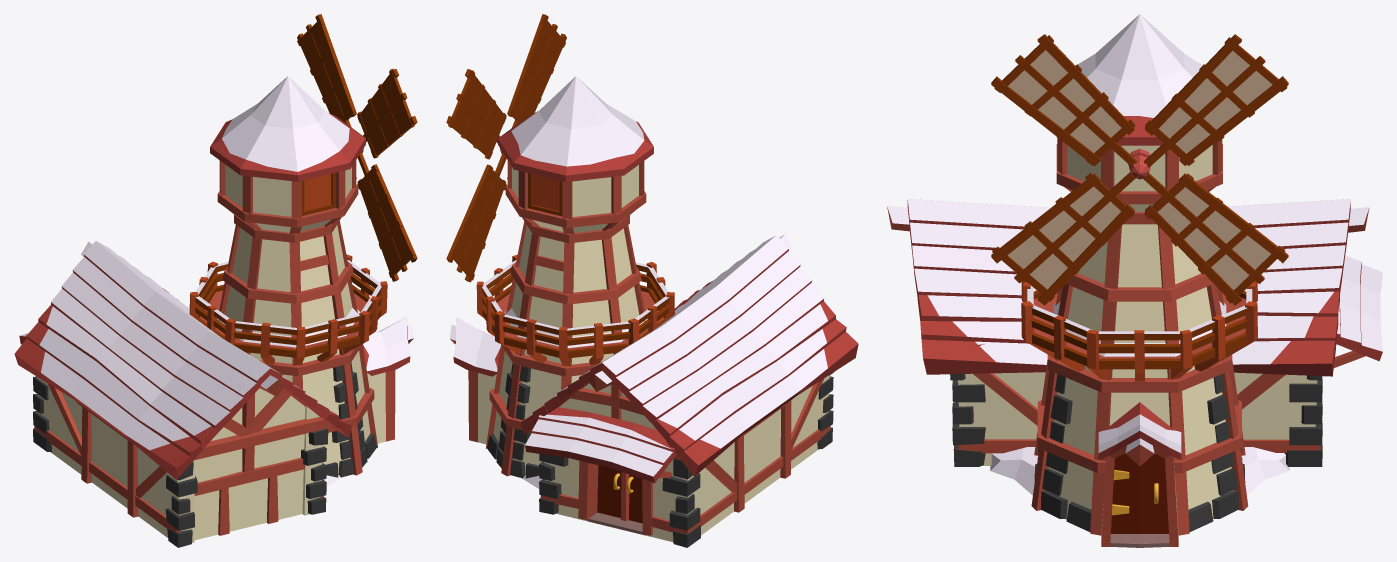
File: windmill.glb
3 renders of one model, left to right at view 1: azimuth 30°, elevation 25°; view 2: azimuth 150°, elevation 25°; view 3: azimuth 270°, elevation 25°, orthographic. The views are drawn at different scales.
Visible parts, largest first — view 1: Windmill; view 2: Windmill; view 3: Windmill.
Boxes of the visible parts, x1=… form: Windmill: x1=14, y1=14, x2=417, y2=547; Windmill: x1=446, y1=14, x2=858, y2=547; Windmill: x1=887, y1=14, x2=1382, y2=547.
Size of what is drawn, in the model's own units: 5.76 by 6.7 by 6.05.
Materials: 1 (1 with a texture image).
